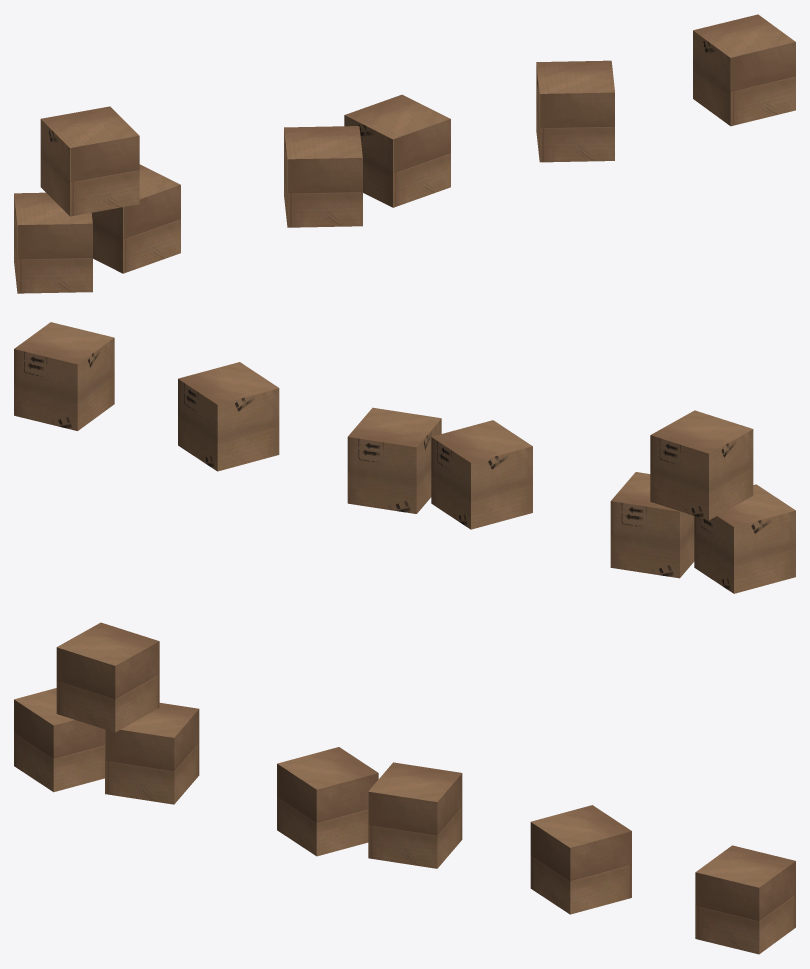
File: caixas_papelao.fbx
3 renders of one model, top to bottom at view 1: azimuth 30°, elevation 25°; view 2: azimuth 150°, elevation 25°; view 3: azimuth 330°, elevation 25°, orthographic. The views are drawn at different scales.
Parts seen in each view (by area): view 1: caixa_trio, caixa_duo, caixa_padrao, caixa_solo; view 2: caixa_trio, caixa_duo, caixa_solo, caixa_padrao; view 3: caixa_trio, caixa_duo, caixa_solo, caixa_padrao.
Part boxes in pixels (box(x1,y1,x2,y2)): caixa_trio: box(14, 106, 180, 293); caixa_duo: box(284, 94, 450, 227); caixa_padrao: box(693, 14, 795, 126); caixa_solo: box(536, 60, 614, 162); caixa_trio: box(610, 410, 795, 593); caixa_duo: box(347, 407, 532, 529); caixa_solo: box(178, 362, 279, 471); caixa_padrao: box(14, 322, 114, 430); caixa_trio: box(14, 622, 199, 804); caixa_duo: box(277, 747, 462, 868); caixa_solo: box(530, 805, 631, 914); caixa_padrao: box(695, 845, 795, 954).
Size of the model in its own units: 2360 by 400 by 292.
Materials: 7 (7 with a texture image).
